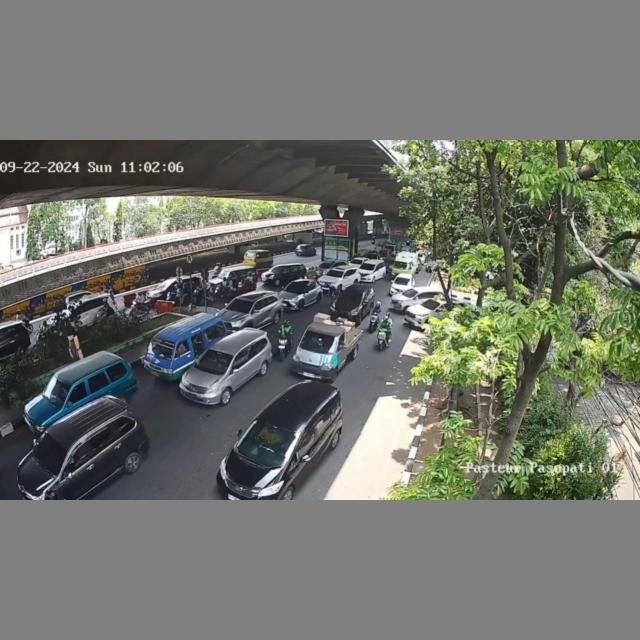windshield: (237, 418, 299, 467), (31, 434, 74, 471), (199, 350, 230, 374), (301, 331, 338, 351), (147, 339, 176, 362), (40, 379, 69, 401), (224, 298, 253, 314), (338, 290, 360, 303), (286, 282, 305, 293), (327, 269, 343, 277)
